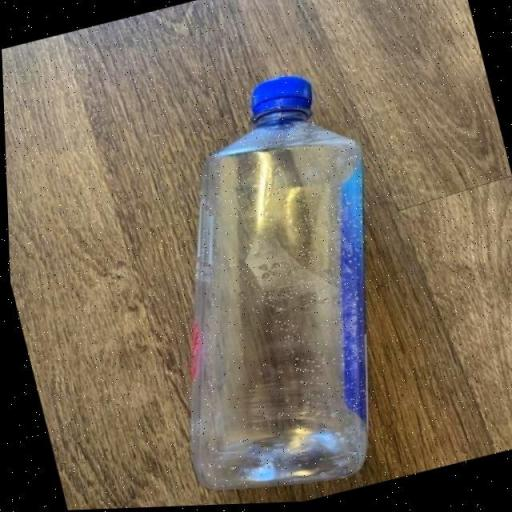plastic: (100, 64, 431, 510)
